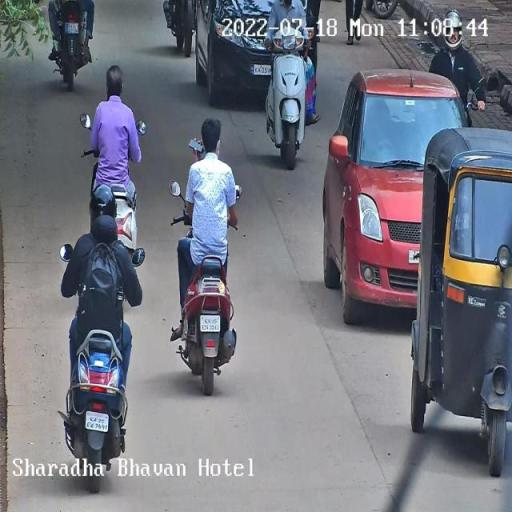using mobile: (184, 137, 206, 155)
